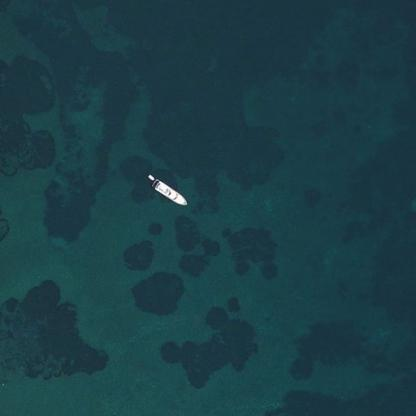ship: (144, 5, 188, 42)
